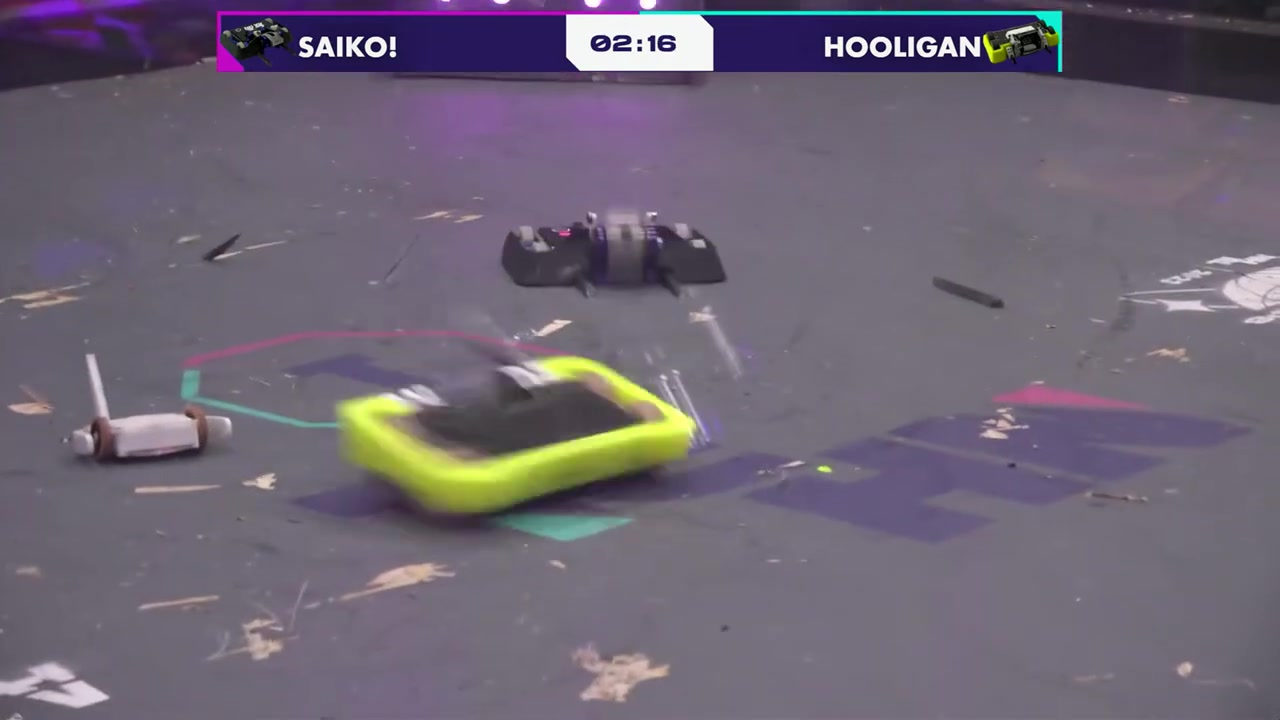combatbot: (339, 357, 694, 514), (502, 224, 728, 292)
minibot: (72, 411, 239, 462)
